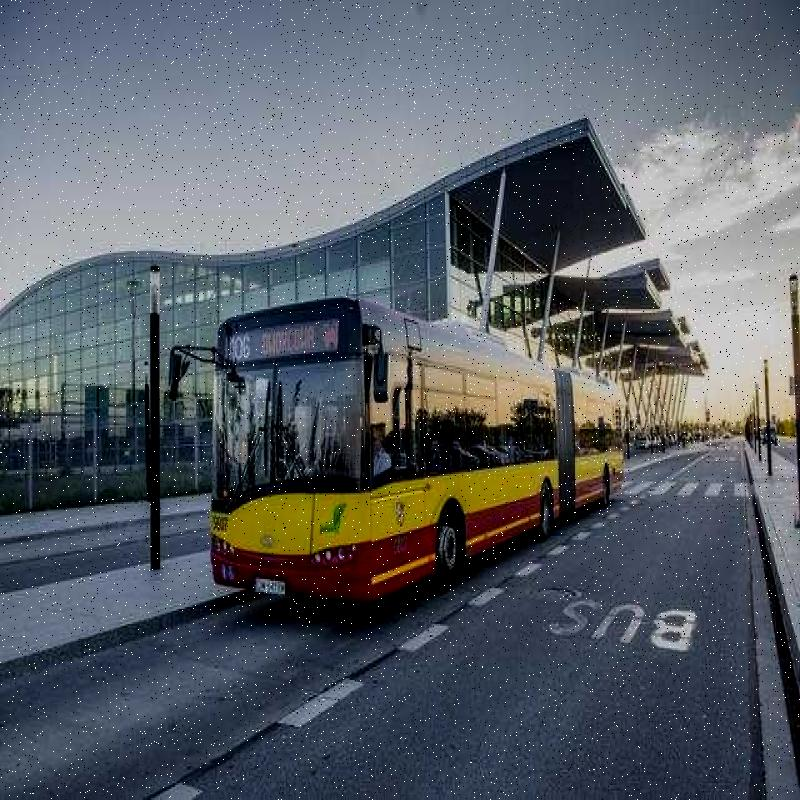bus: (203, 282, 654, 610)
